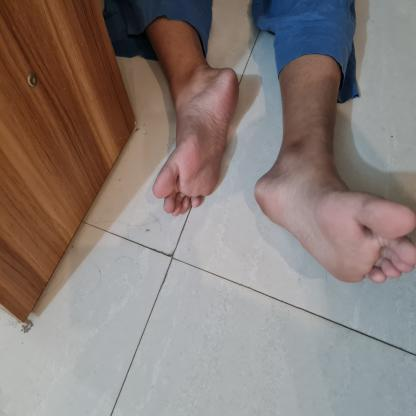leg: (247, 51, 416, 290), (143, 16, 247, 222)
